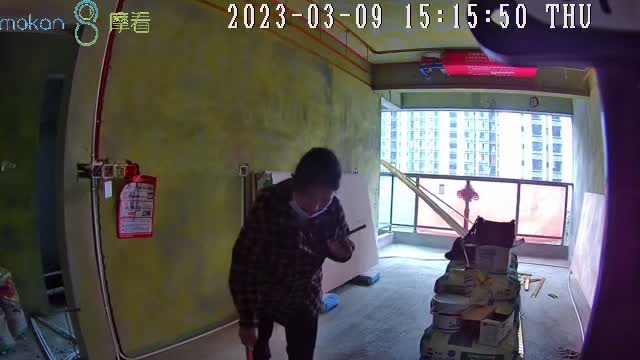people: (229, 147, 354, 360)
window: (380, 105, 569, 243)
